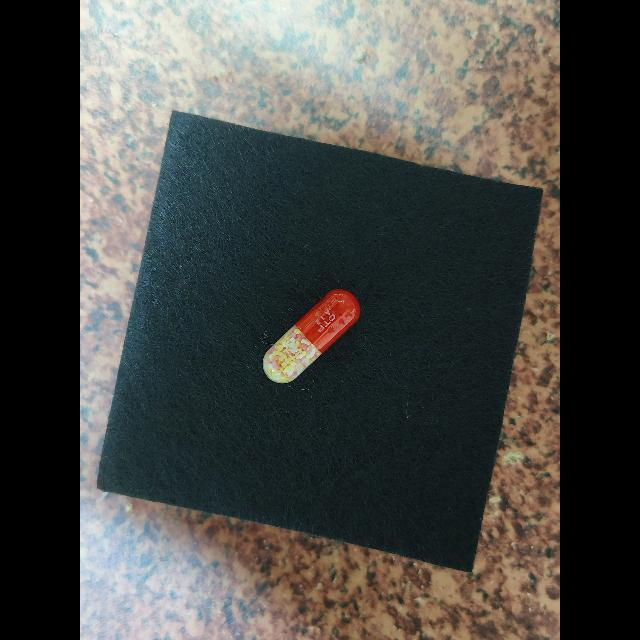Intact Capsule: (263, 289, 360, 383)
